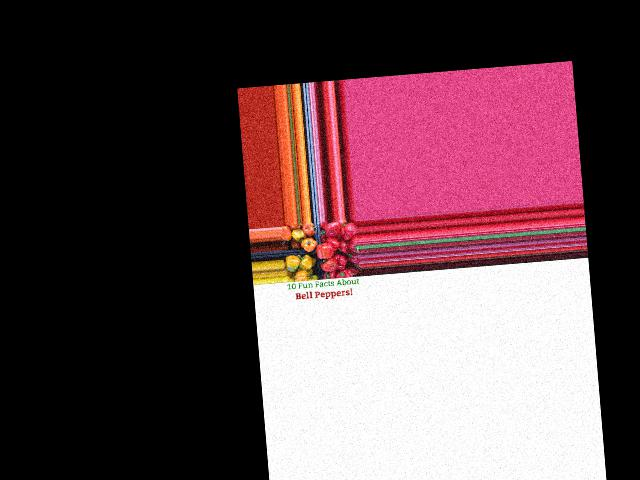bell_pepper: (331, 265, 353, 281)
